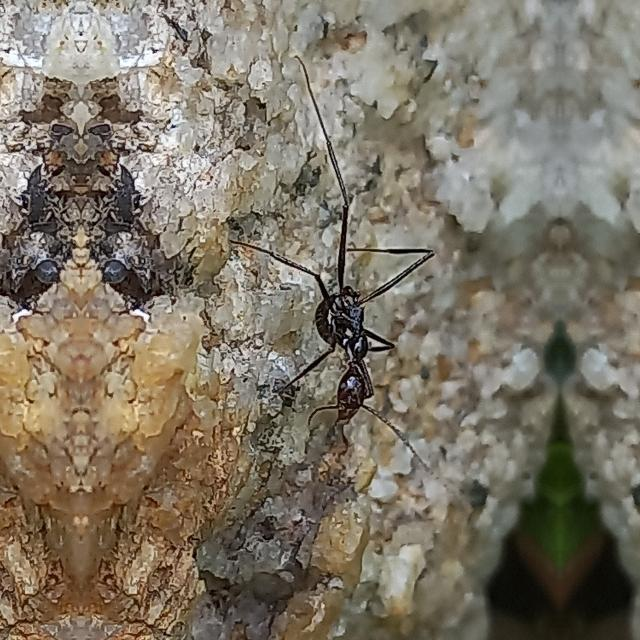Apheanogaster: (286, 226, 406, 450)
